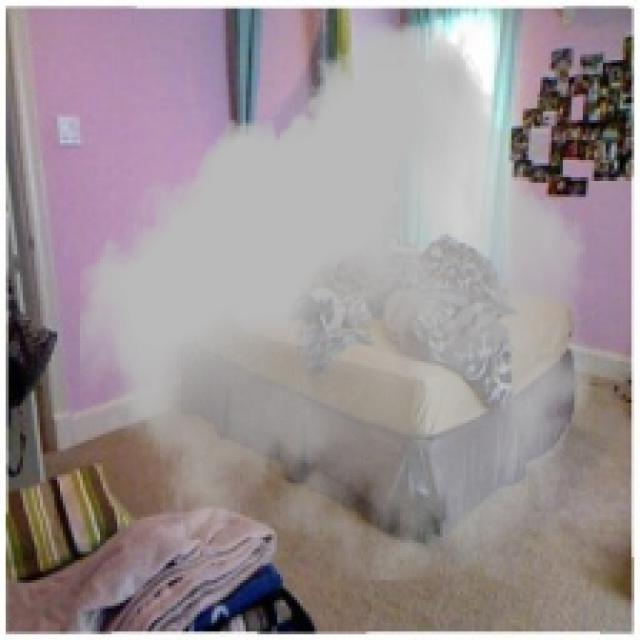smoke: (80, 23, 594, 580)
